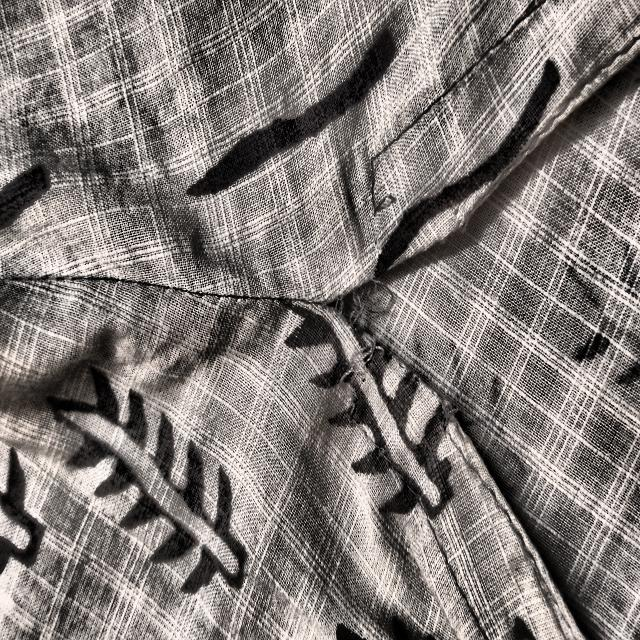Stitch: (310, 265, 458, 545), (344, 129, 420, 248)
